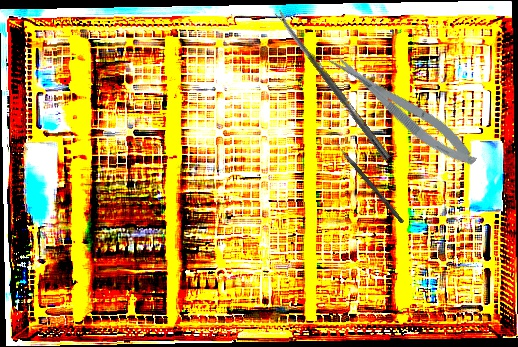Hook Surgical: (329, 137, 405, 224)
Micro Scissor: (324, 42, 483, 176)
Surgical Spoon: (274, 9, 392, 161)
